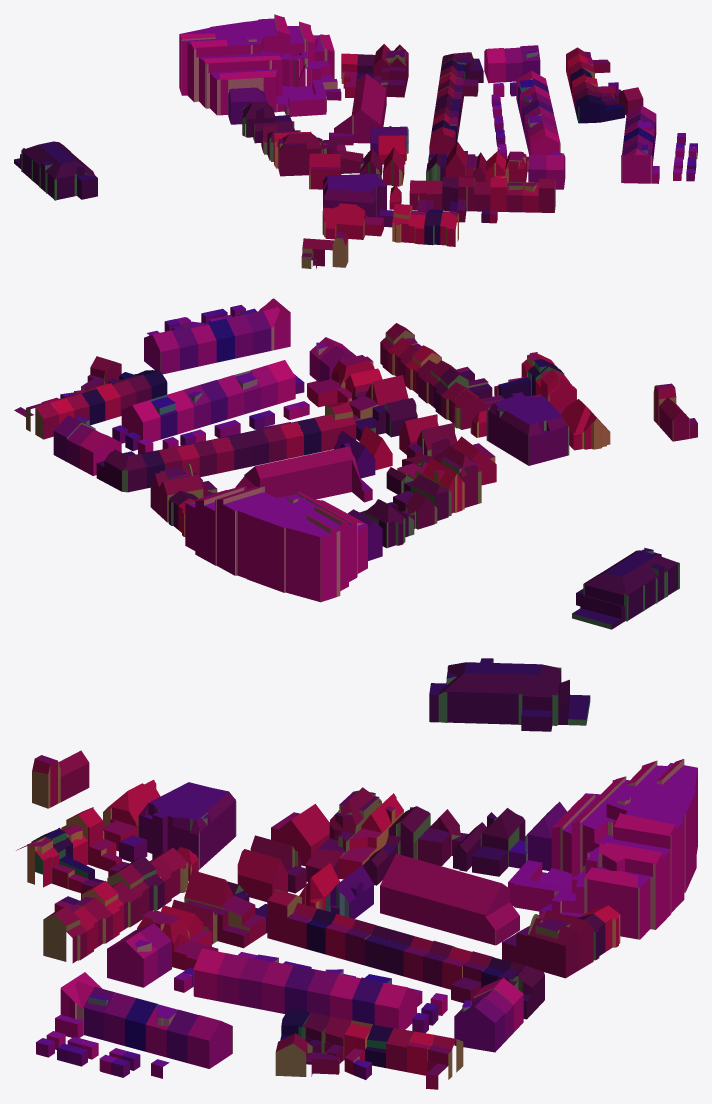
File: buildings_12_10.glb
3 renders of one model, top to bottom at view 1: azimuth 30°, elevation 25°; view 2: azimuth 150°, elevation 25°; view 3: azimuth 270°, elevation 25°, orthographic. The views are drawn at different scales.
Visible parts, largest first — view 1: buildings_12_10; view 2: buildings_12_10; view 3: buildings_12_10.
Part boxes in pixels (box(x1,y1,x2,y2)): buildings_12_10: box(14, 14, 697, 268); buildings_12_10: box(14, 298, 697, 629); buildings_12_10: box(16, 658, 697, 1089).
Bounding box in the file's own units: 192 × 19.37 × 141.
